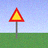sign: (9, 7, 24, 38)
